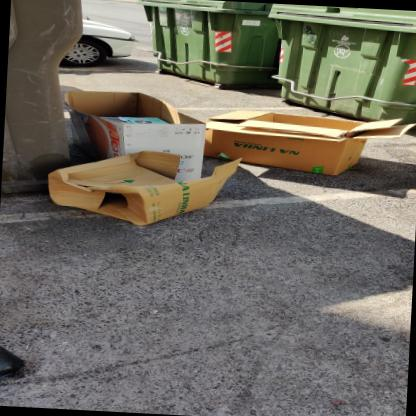Paper: (47, 150, 241, 226), (203, 110, 416, 175), (64, 90, 205, 181), (236, 113, 401, 138), (98, 116, 168, 123)
